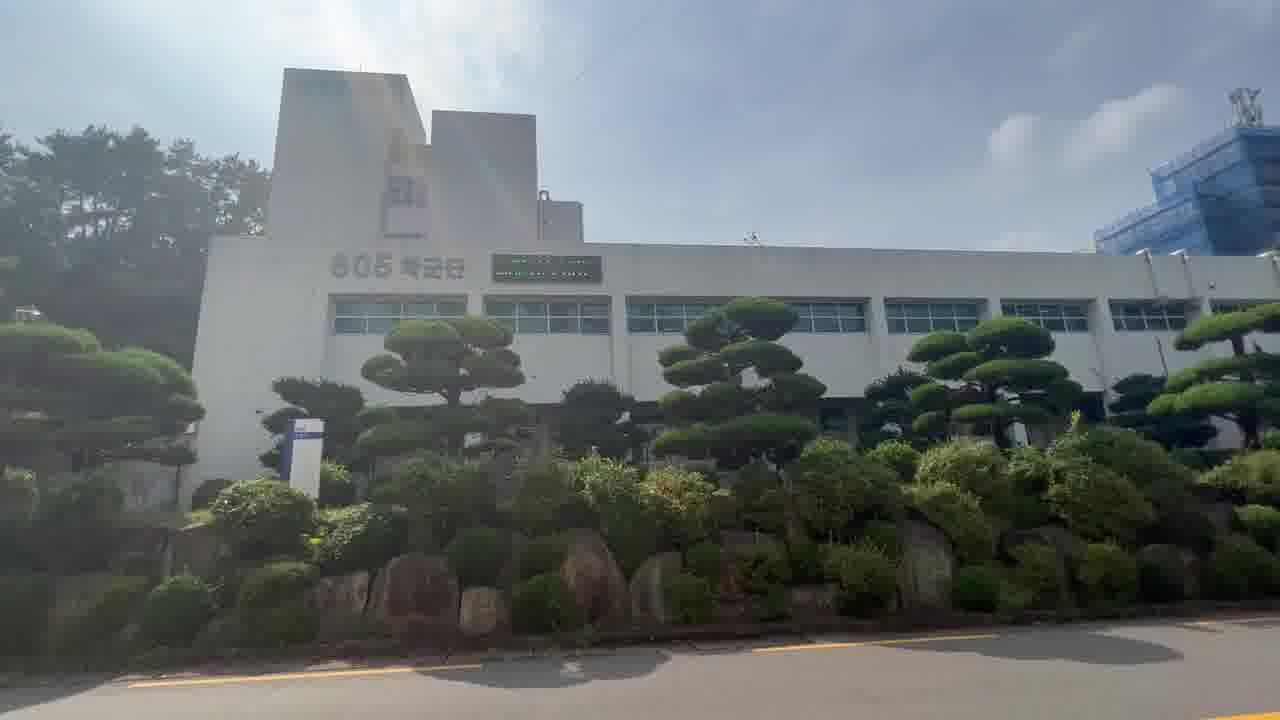building: (212, 48, 1011, 413)
